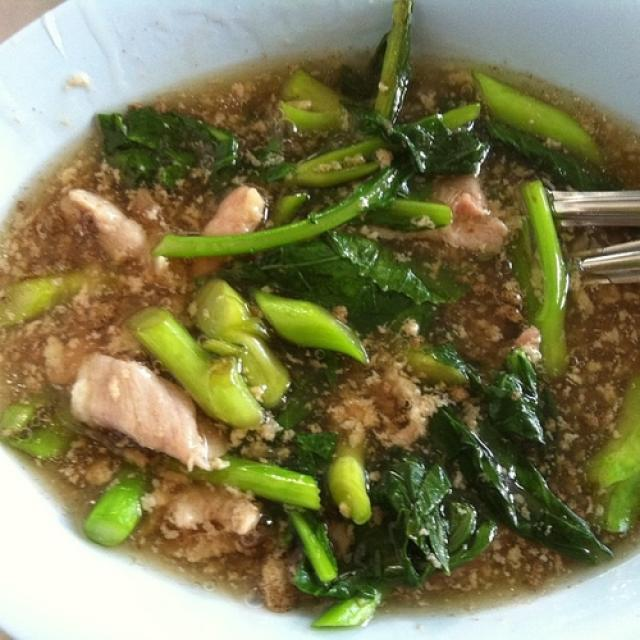面条主食: (12, 21, 620, 610)
